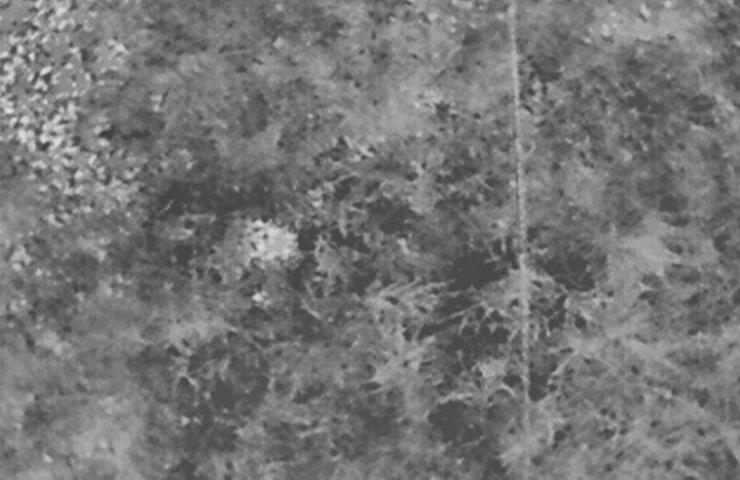landmines: (241, 217, 309, 275)
